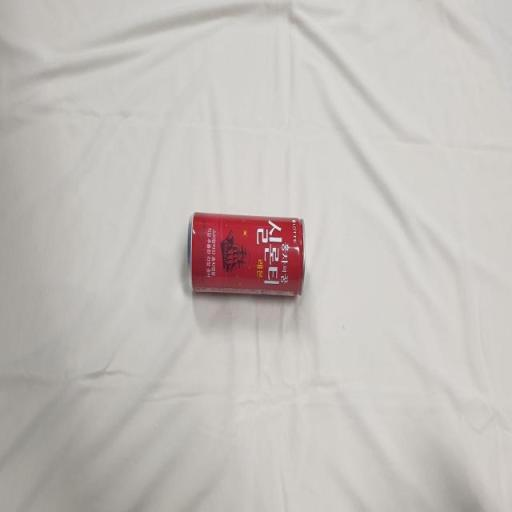metal: (162, 190, 316, 331)
